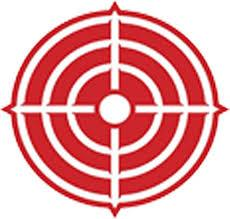target_red: (0, 0, 228, 217)
